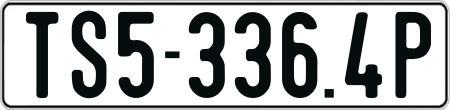3: (235, 10, 271, 100), (189, 11, 225, 98)
4: (342, 10, 379, 100)
5: (118, 12, 157, 98)
6: (281, 11, 319, 98)
P: (396, 12, 434, 101)
S: (70, 11, 107, 99)
T: (23, 12, 61, 102)
